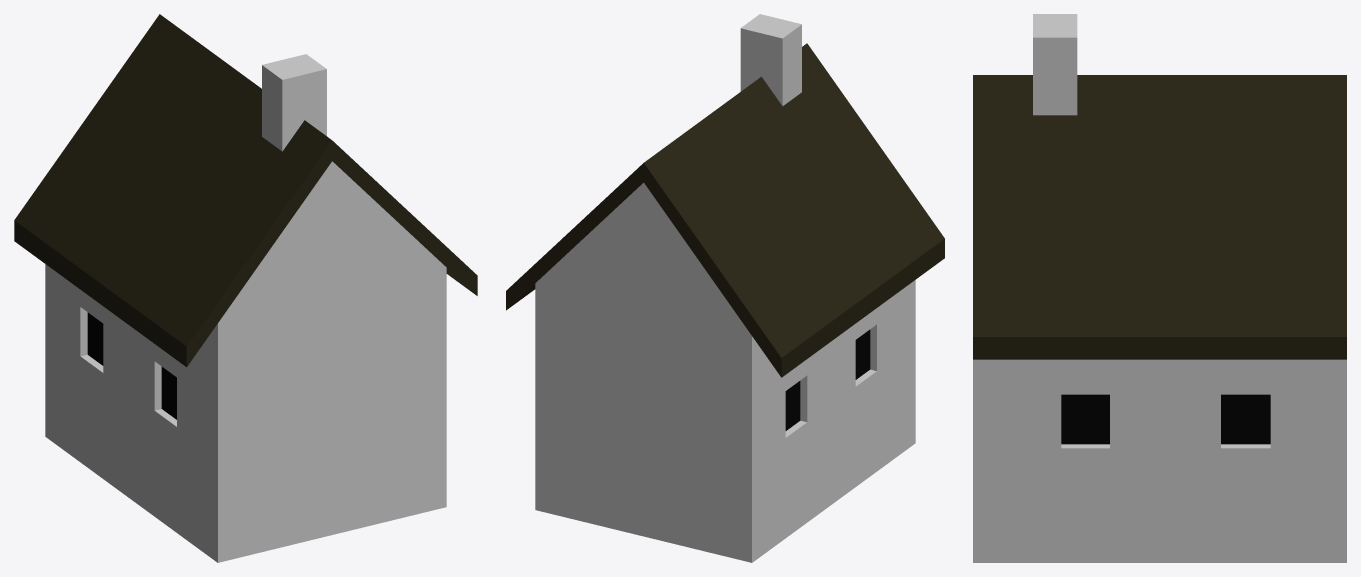
The model's file is House1.fbx.
3 views of the same model, side by side, from view 1: azimuth 30°, elevation 25°; view 2: azimuth 150°, elevation 25°; view 3: azimuth 270°, elevation 25° (orthographic). The views are drawn at different scales.
Parts seen in each view (by area): view 1: House1; view 2: House1; view 3: House1.
Boxes of the visible parts, x1,y1,x2,y2 form: House1: [14, 14, 477, 562]; House1: [506, 14, 944, 562]; House1: [973, 14, 1346, 562].
Size of the model in its own units: 5.72 by 8.27 by 5.88.
